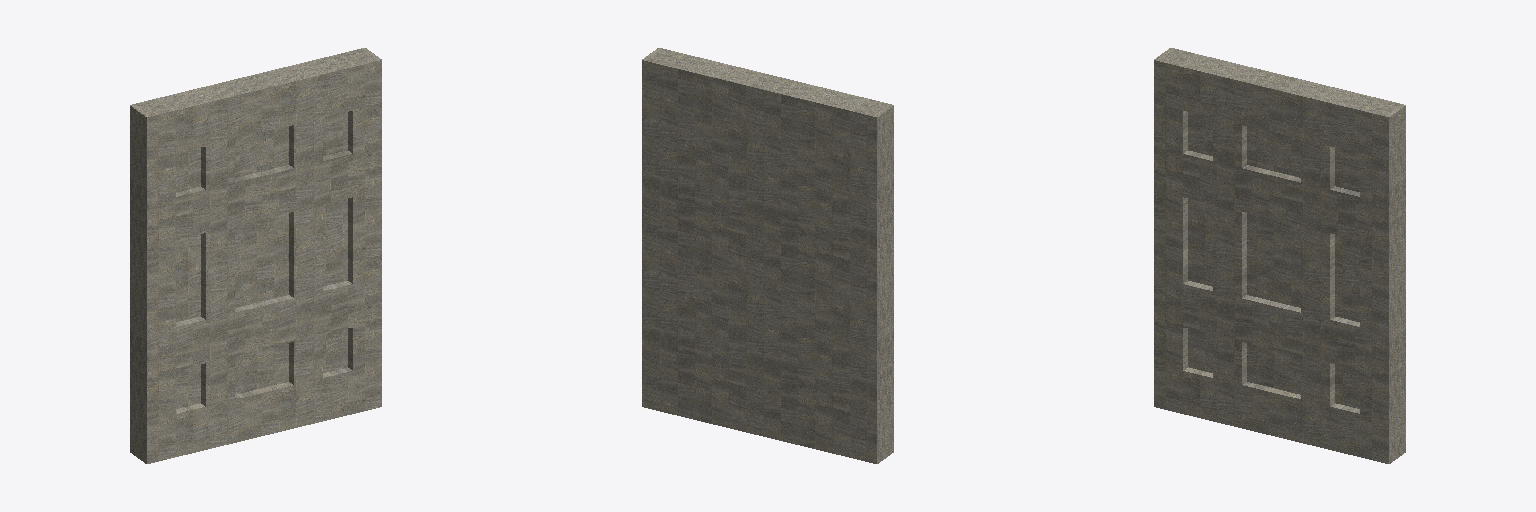
3 renders of one model, left to right at view 1: azimuth 30°, elevation 25°; view 2: azimuth 150°, elevation 25°; view 3: azimuth 330°, elevation 25°, orthographic.
Parts seen in each view (by area): view 1: 立方体.017; view 2: 立方体.017; view 3: 立方体.017.
Part boxes in pixels (left/top/right/bottom): 立方体.017: left=130, top=48, right=381, bottom=463; 立方体.017: left=642, top=48, right=893, bottom=463; 立方体.017: left=1154, top=48, right=1405, bottom=463.
Size of the model in its own units: 6.4 by 9 by 0.8.
Materials: 1 (1 with a texture image).